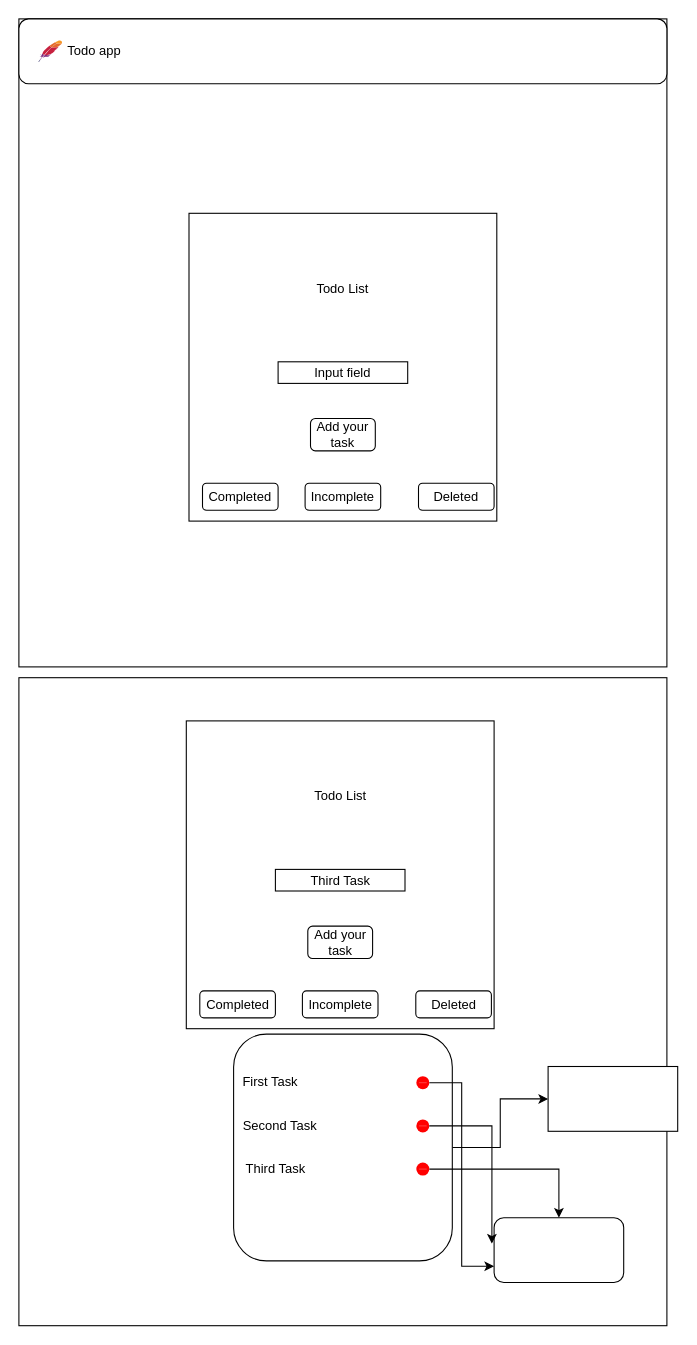
Some shapes in this 697 by 1345 pixel diagram are drawn without their labels. The shapes that lost their labels are listed below. From the top down, each one's centre as x and y in pixels, then its label:
point 612,1098: Input result
point 558,1249: Delete task buttom
